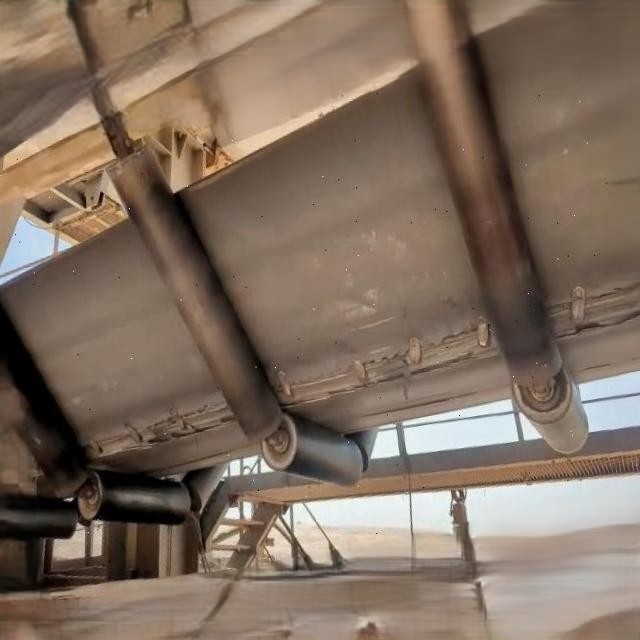Tear: (279, 317, 500, 413), (78, 398, 240, 467), (544, 274, 639, 348)
